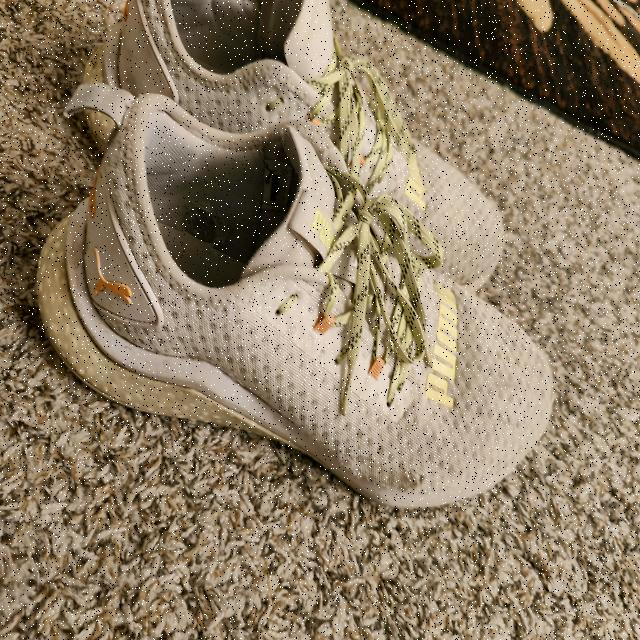white shoes: (36, 0, 549, 511)
